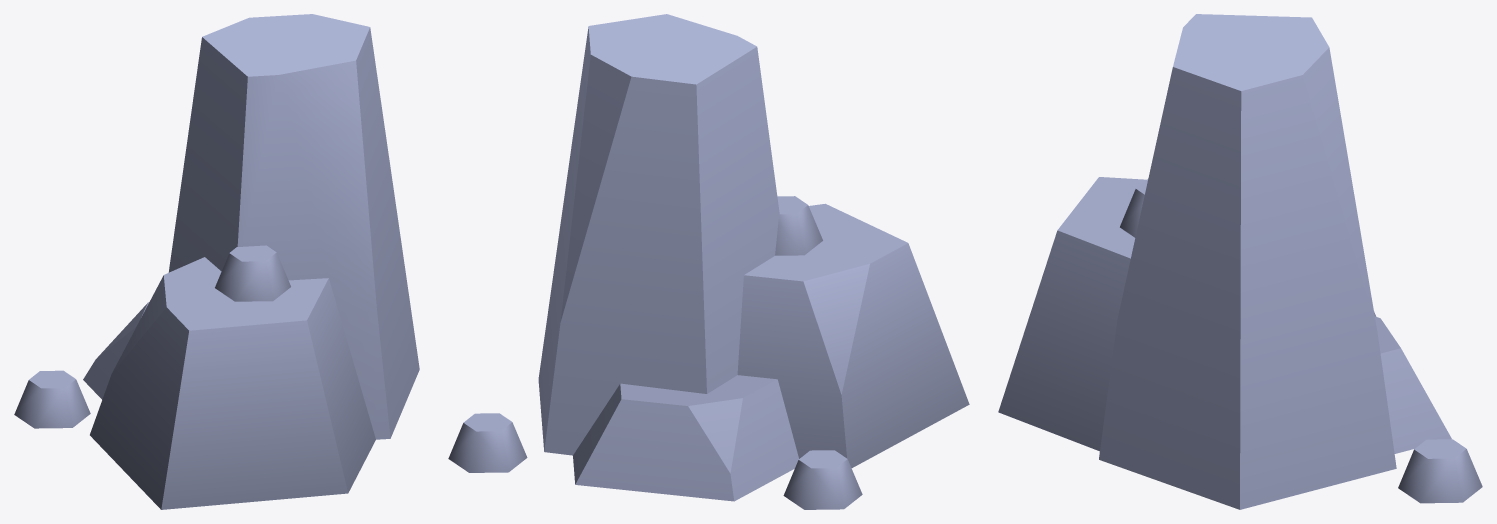
File: rock-small.004_lev2.glb
3 renders of one model, left to right at view 1: azimuth 30°, elevation 25°; view 2: azimuth 150°, elevation 25°; view 3: azimuth 270°, elevation 25°, orthographic. The views are drawn at different scales.
Parts seen in each view (by area): view 1: rock-small.004_lev2; view 2: rock-small.004_lev2; view 3: rock-small.004_lev2.
Part boxes in pixels (<box>): rock-small.004_lev2: <box>14,14,419,509</box>; rock-small.004_lev2: <box>448,14,969,509</box>; rock-small.004_lev2: <box>998,14,1482,509</box>.
Bounding box in the file's own units: 1.46 × 1.41 × 1.58.
1 material, 1 textured.
